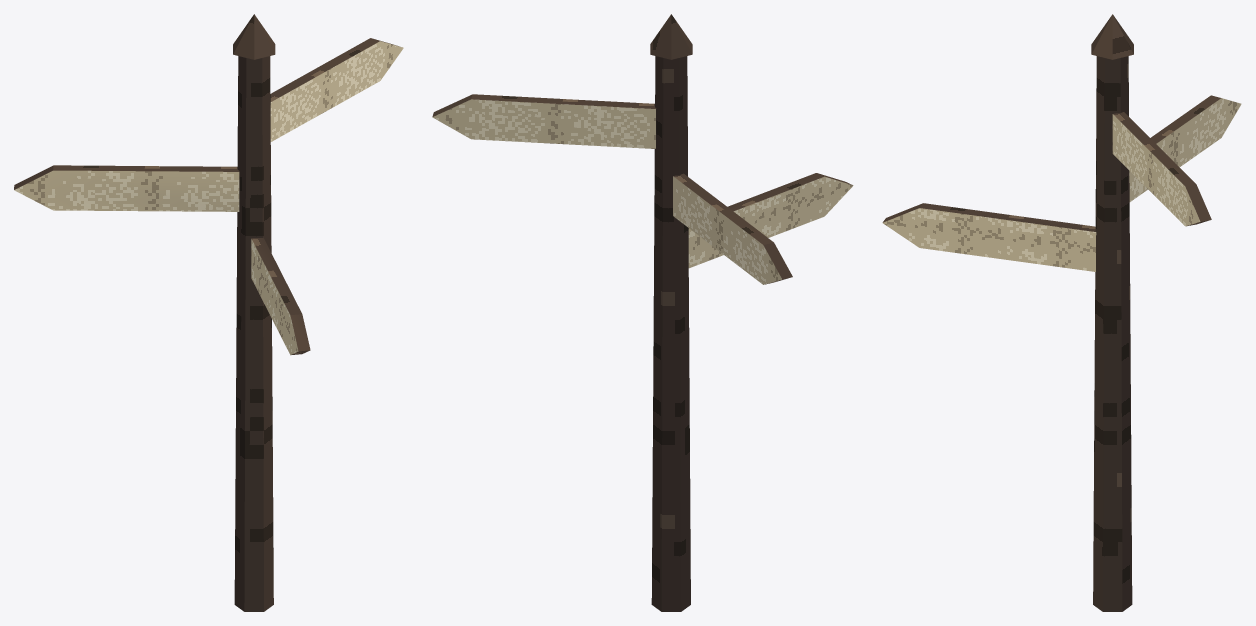
The model's file is mprop.signpost.glb.
The picture shows the model from 3 angles, left to right: view 1: azimuth 30°, elevation 25°; view 2: azimuth 150°, elevation 25°; view 3: azimuth 270°, elevation 25°; orthographic projection.
Visible parts, largest first — view 1: kit_post, kit_boards; view 2: kit_post, kit_boards; view 3: kit_post, kit_boards.
Boxes of the visible parts, x1=… form: kit_post: x1=233, y1=14, x2=275, y2=611; kit_boards: x1=14, y1=38, x2=403, y2=355; kit_post: x1=650, y1=14, x2=692, y2=611; kit_boards: x1=432, y1=94, x2=853, y2=284; kit_post: x1=1091, y1=14, x2=1133, y2=611; kit_boards: x1=882, y1=95, x2=1241, y2=271.
Size of the model in its own units: 1.77 by 2.66 by 1.47.
2 materials, 2 textured.
